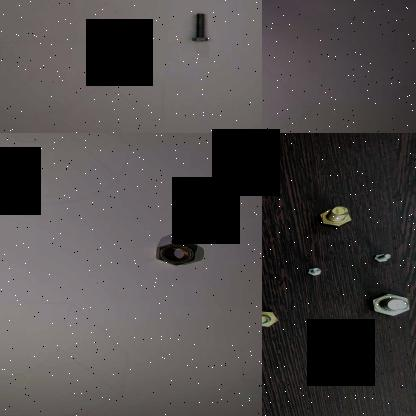Bolts: (360, 286, 414, 318), (310, 203, 355, 230), (188, 9, 212, 47), (368, 247, 394, 264), (262, 308, 283, 329), (304, 266, 324, 277)
NUTS: (143, 241, 206, 268), (168, 207, 209, 227)
